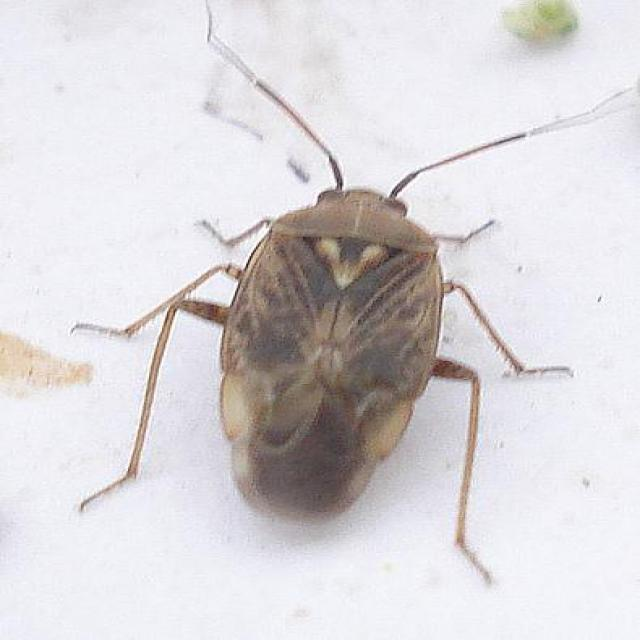Miridae-Adult-: (58, 14, 591, 592)
